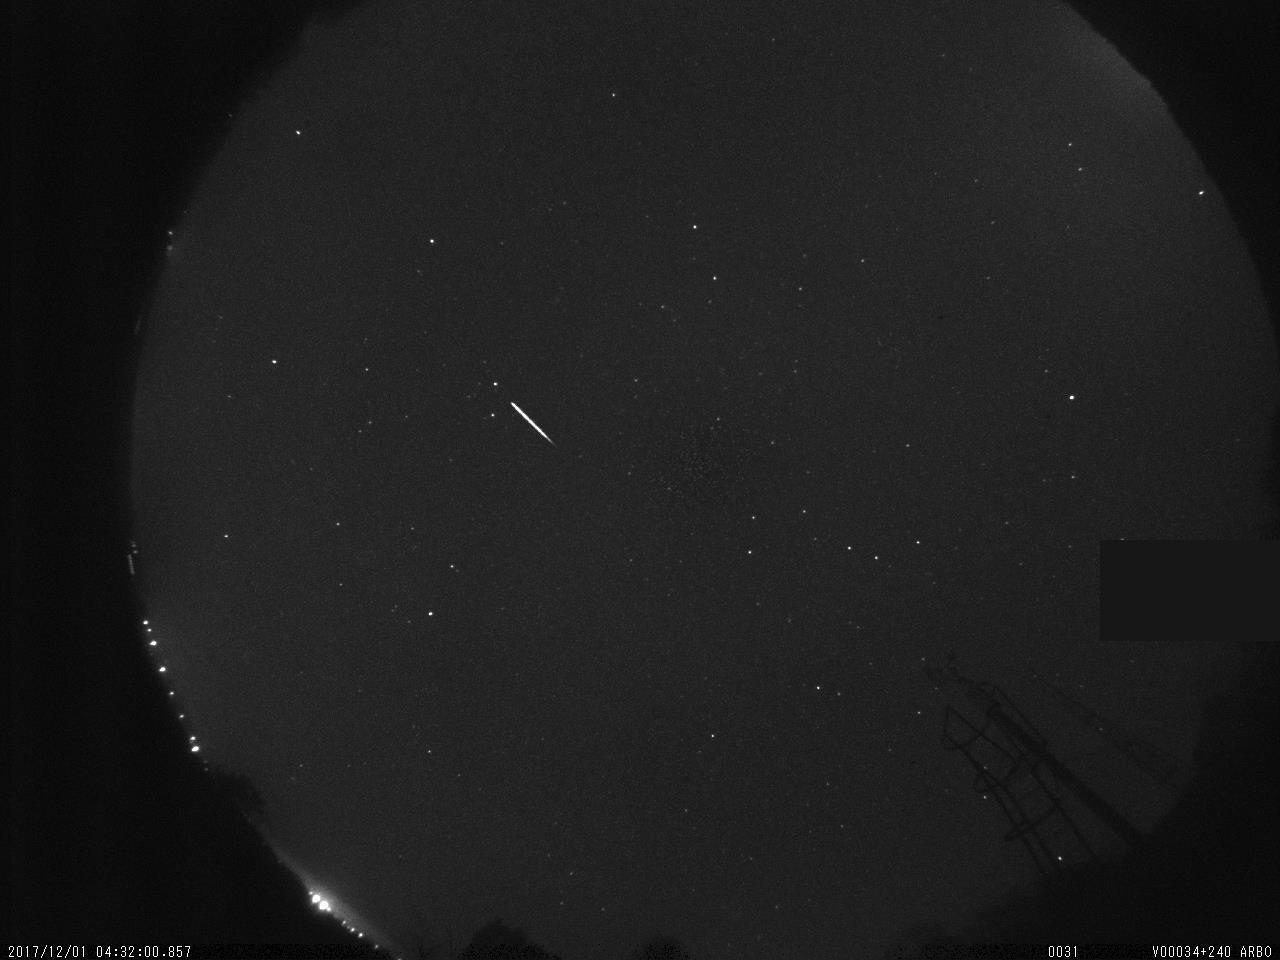meteor: (486, 371, 571, 465)
